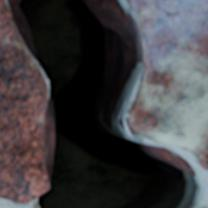broken_brick: (131, 0, 207, 170), (0, 0, 48, 205)
crack: (2, 0, 206, 207)
